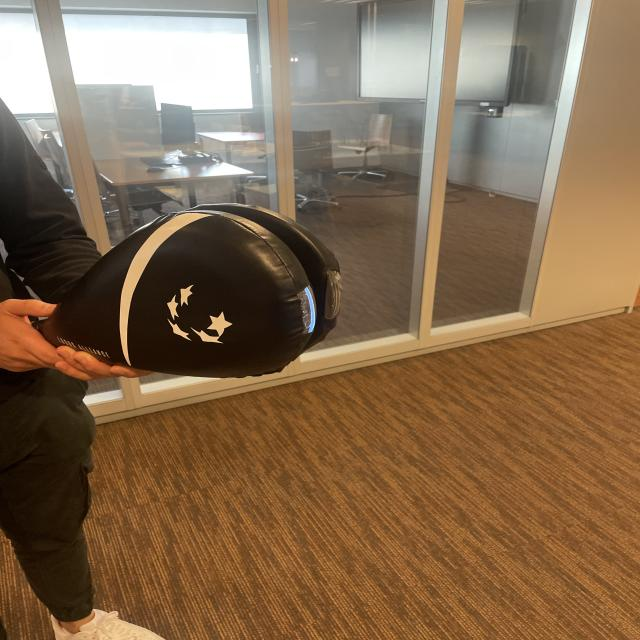paddle: (73, 205, 342, 378)
trigger: (300, 282, 320, 335)
